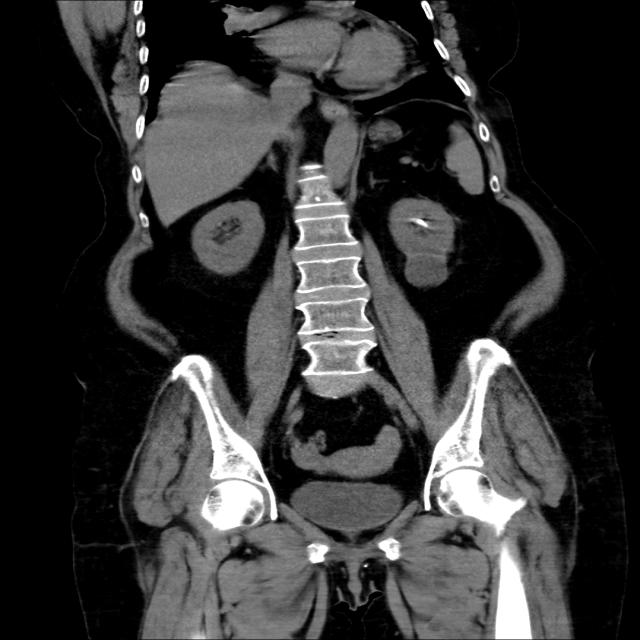kidneystone: (415, 218, 427, 225)
